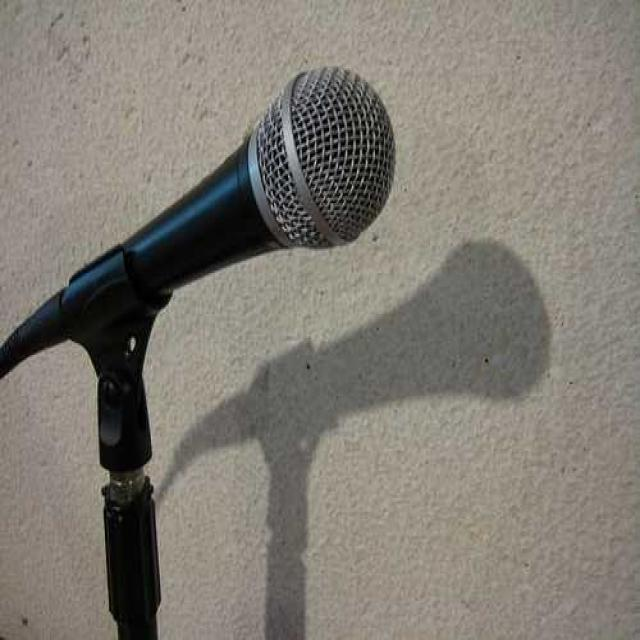microphone: (3, 66, 388, 401)
